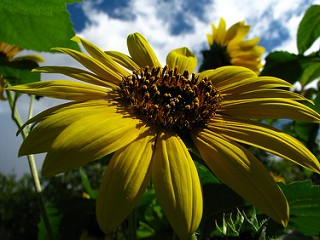flower: (1, 31, 320, 239)
